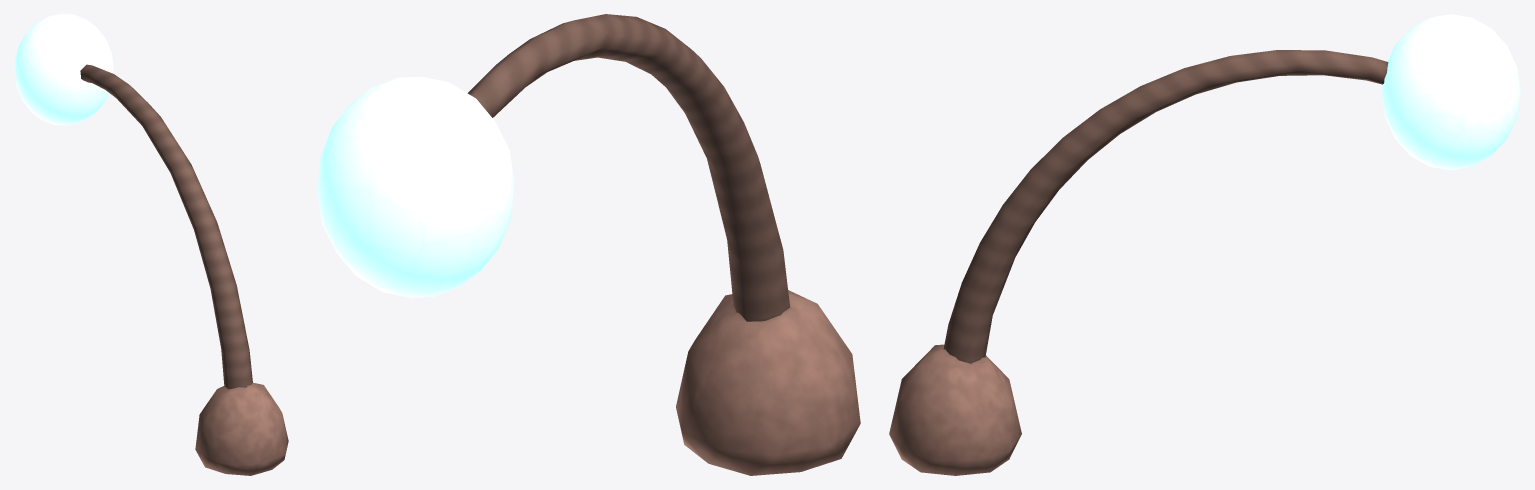
Rendered from cpart_lure.glb.
3 renders of one model, left to right at view 1: azimuth 30°, elevation 25°; view 2: azimuth 150°, elevation 25°; view 3: azimuth 270°, elevation 25°, orthographic. The views are drawn at different scales.
Visible parts, largest first — view 1: Lure; view 2: Lure; view 3: Lure.
Part boxes in pixels (<box>): Lure: <box>14,14,288,475</box>; Lure: <box>317,14,860,475</box>; Lure: <box>889,14,1520,475</box>.
Size of the model in its own units: 0.042 by 0.1438 by 0.1901.
Materials: 3 (3 with a texture image).
